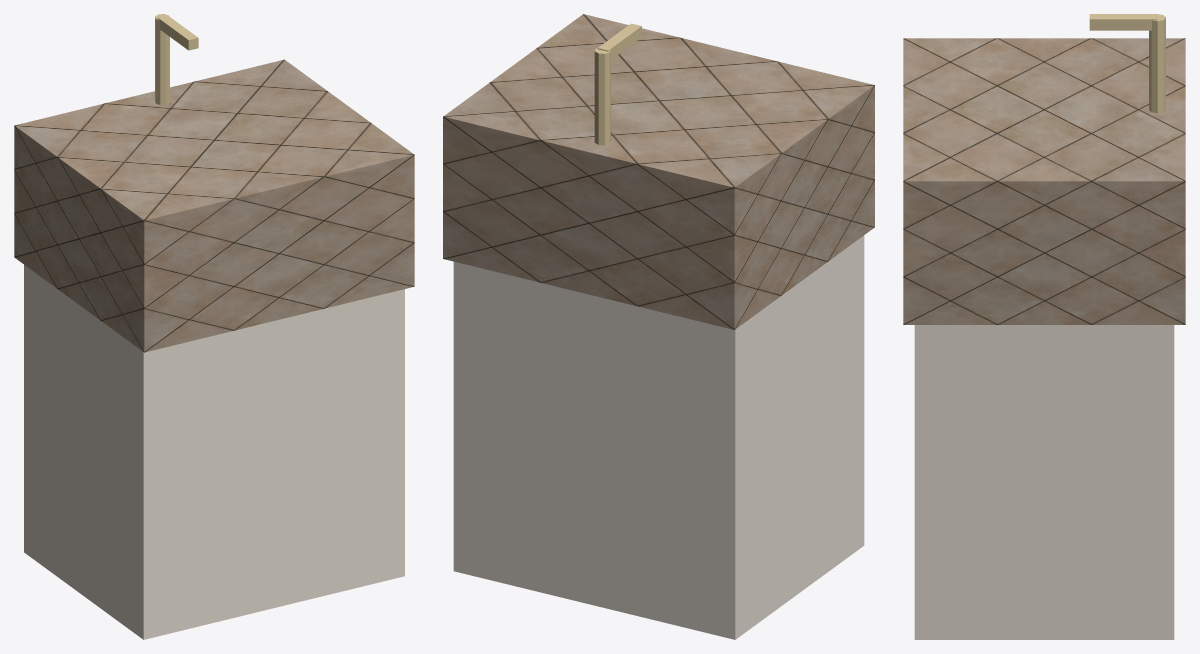
The model's file is tanque_dml.glb.
3 renders of one model, left to right at view 1: azimuth 30°, elevation 25°; view 2: azimuth 150°, elevation 25°; view 3: azimuth 270°, elevation 25°, orthographic. The views are drawn at different scales.
Parts seen in each view (by area): view 1: tanque_dml; view 2: tanque_dml; view 3: tanque_dml.
Part boxes in pixels (bbox=[...]): tanque_dml: bbox=[14, 14, 414, 639]; tanque_dml: bbox=[443, 14, 874, 639]; tanque_dml: bbox=[903, 14, 1185, 639].
Size of the model in its own units: 0.6 by 1.08 by 0.5.
Materials: 4 (1 with a texture image).
